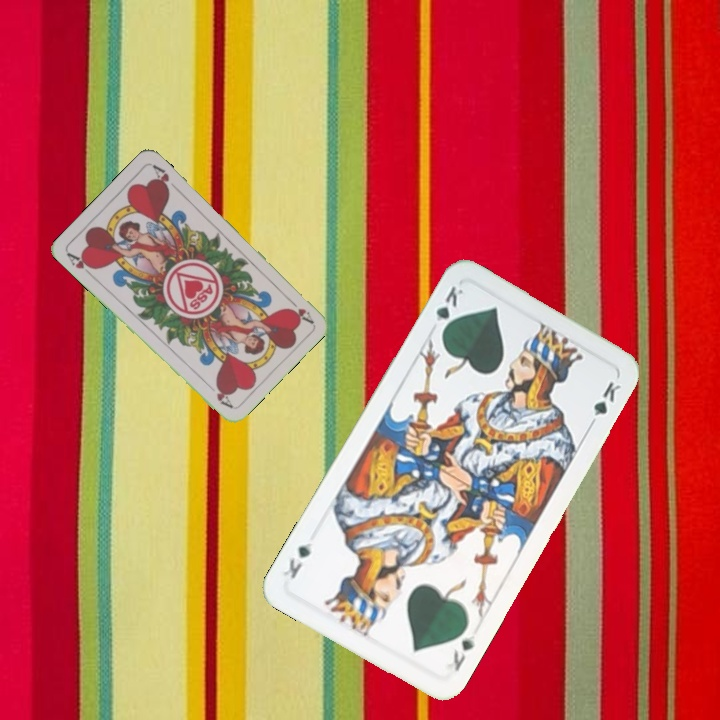GK: (431, 281, 466, 338), (449, 629, 478, 674)
HA: (63, 248, 98, 280), (282, 293, 315, 326)
